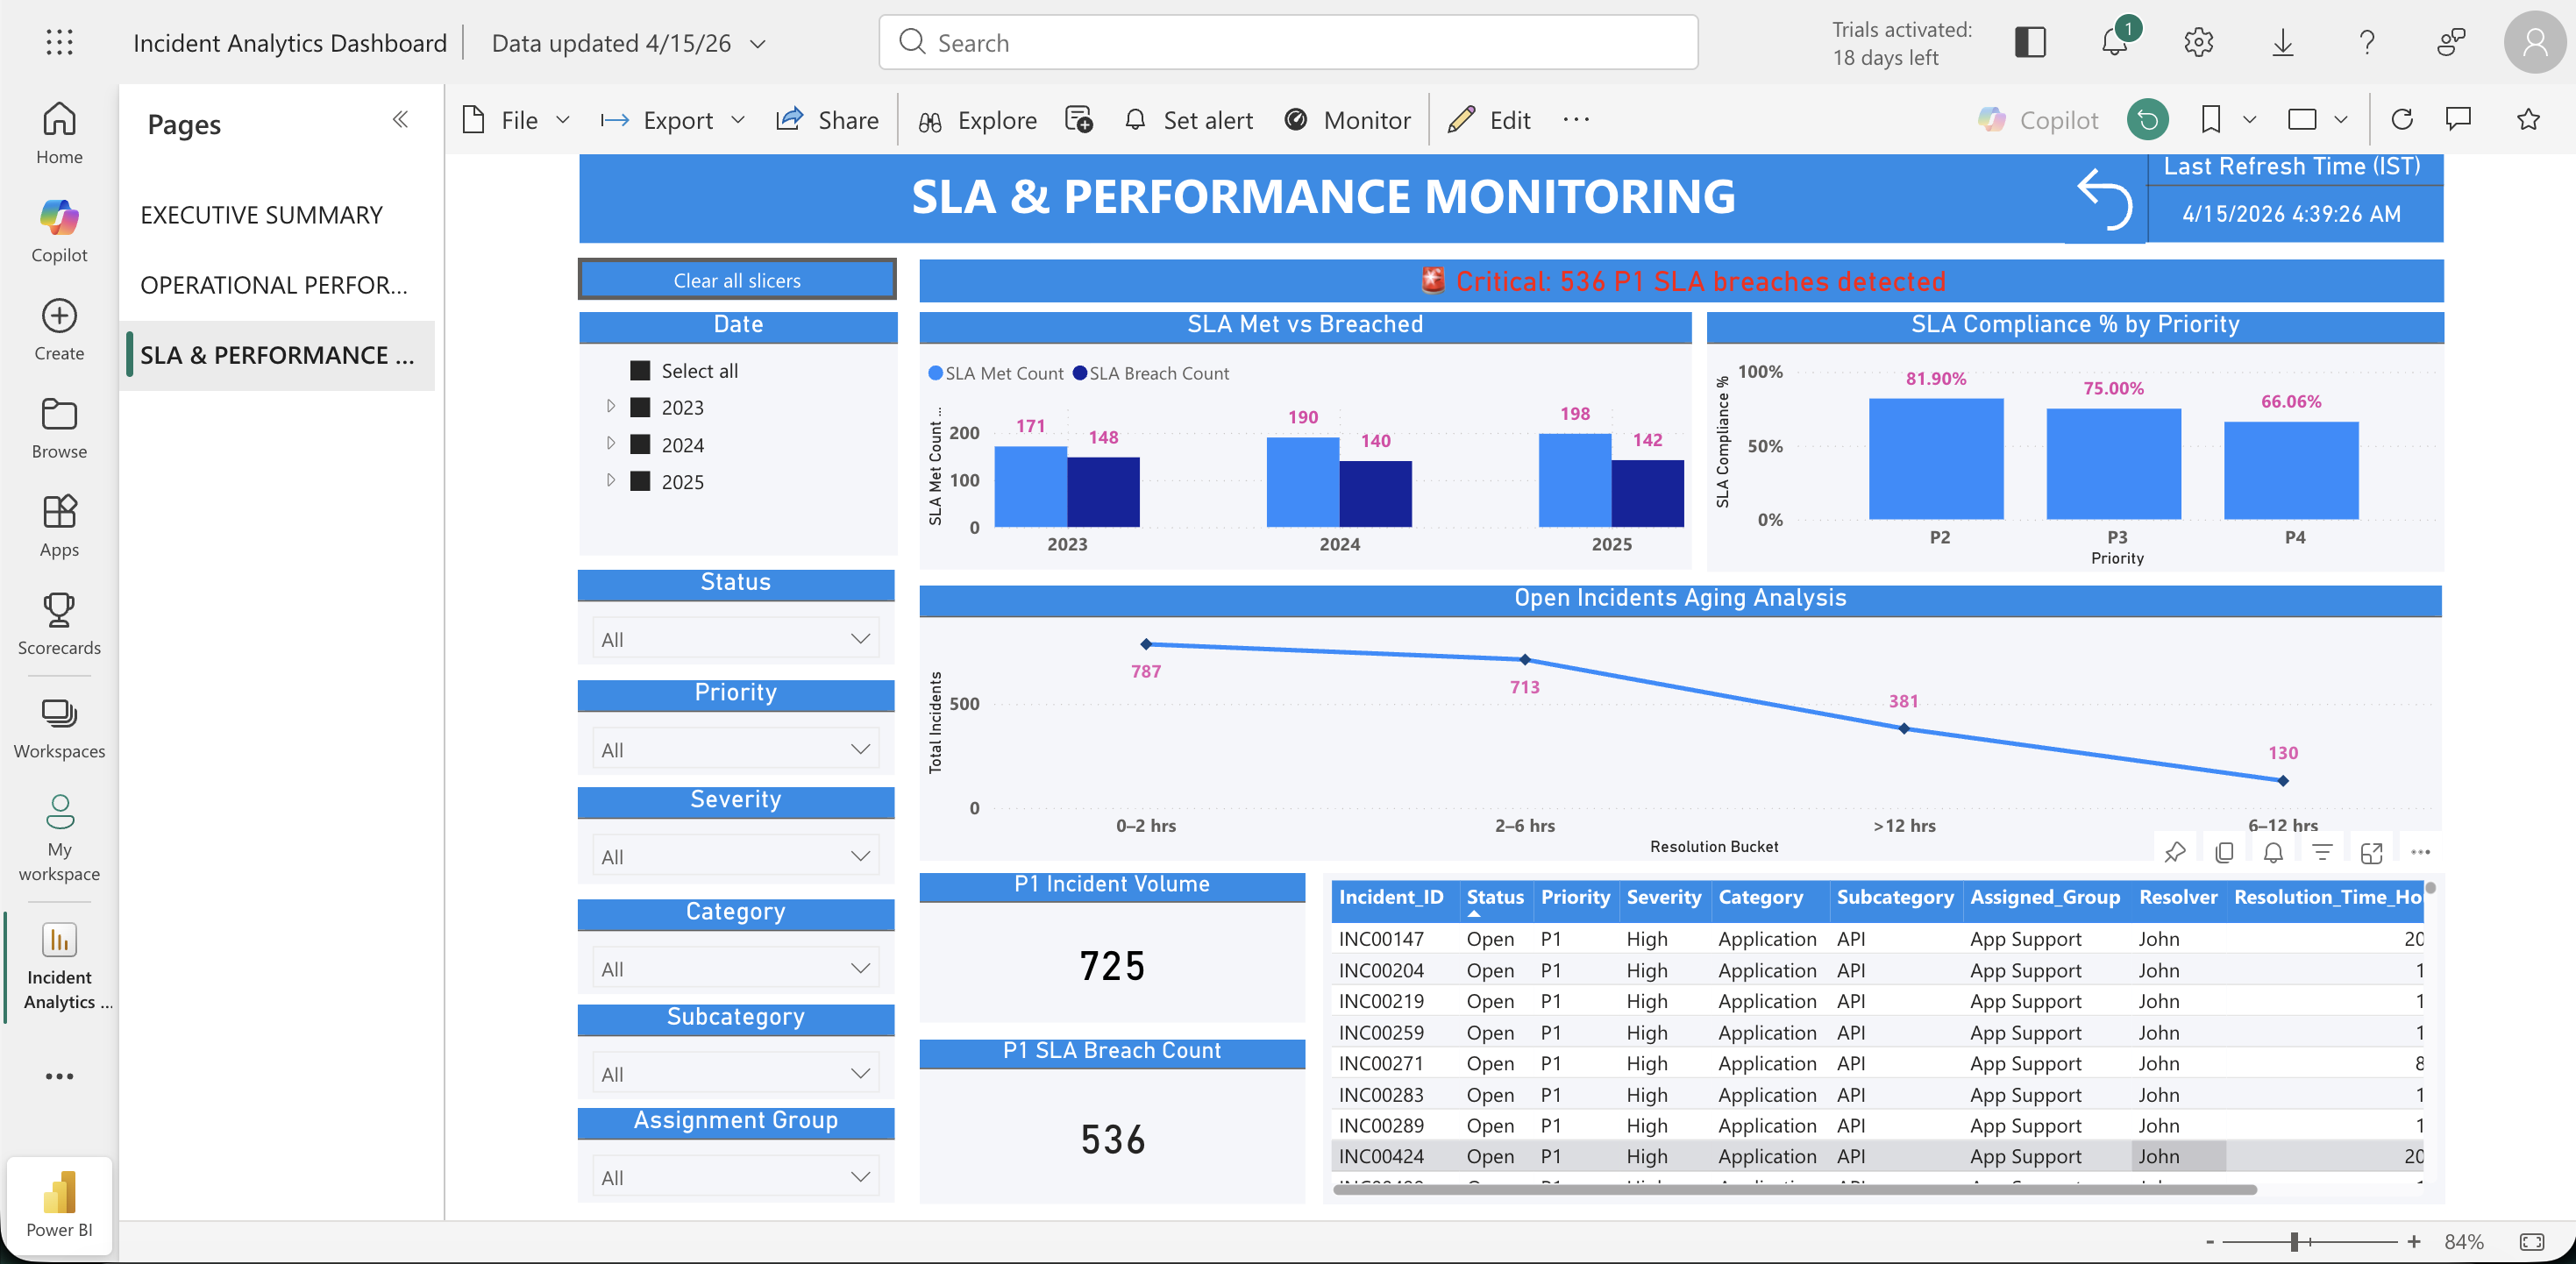

This screenshot's page, from the dashboard's own definition file:
{"tool":"powerbi","page":{"name":"SLA & PERFORMANCE MONITORING","canvas":[1280,720],"ordinal":2},"visuals":[{"type":"textbox","box":[10.2,0,1005.7,60],"z":0,"group":"g1"},{"type":"slicer","title":"Status","fields":{"Values":["Dim_Status.Status"]},"box":[10.2,280.7,213.8,64],"z":0,"group":"g2"},{"type":"lineChart","title":"Open Incidents Aging Analysis","fields":{"Y":["Measure.Total Incidents"],"Category":["Fact_Incident.Resolution Bucket"]},"box":[240.5,290.9,1028.2,185.8],"z":0},{"type":"card","title":"Last Refresh Time (IST)","fields":{"Values":["Min(Last Refresh Time (IST).Last Refresh Time (IST))"]},"box":[1064.5,0,205.1,59.6],"z":1000,"group":"g1"},{"type":"slicer","title":"Priority","fields":{"Values":["Dim_Priority.Priority"]},"box":[10.2,354.9,213.8,64],"z":1000,"group":"g2"},{"type":"card","title":"P1 Incident Volume","fields":{"Values":["Measure.Total P1 Incidents"]},"box":[240.2,485.5,260.4,100.8],"z":1000},{"type":"shape","box":[1058.9,0,20.4,59.6],"z":2000,"group":"g1"},{"type":"clusteredColumnChart","title":"SLA Compliance % by Priority","fields":{"Category":["Dim_Priority.Priority"],"Y":["Measure.SLA Compliance %"]},"box":[771.8,106.6,498.2,175.7],"z":2000},{"type":"slicer","title":"Severity","fields":{"Values":["Dim_Severity.Severity"]},"box":[10.2,427.6,213.8,65.5],"z":2000,"group":"g2"},{"type":"card","title":"Open Incidents Count","fields":{"Values":["Measure.Open Count"]},"box":[178.3,0,177.1,60],"z":3000},{"type":"slicer","title":"Category","fields":{"Values":["Dim_Category.Category"]},"box":[10.2,503.3,213.8,64],"z":3000,"group":"g2"},{"type":"slicer","title":"Subcategory","fields":{"Values":["Dim_Subcategory.Subcategory"]},"box":[10.2,574.5,213.8,64],"z":4000,"group":"g2"},{"type":"card","title":"P1 SLA Breach Count","fields":{"Values":["Measure.P1 SLA Breach Count"]},"box":[240.2,598,260.4,110.9],"z":4000},{"type":"clusteredColumnChart","title":"SLA Met vs Breached","fields":{"Y":["Measure.SLA Met Count","Measure.SLA Breach Count"],"Category":["Dim_Date.Date Hierarchy.Year","Dim_Date.Date Hierarchy.Quater","Dim_Date.Date Hierarchy.Month","Dim_Date.Date Hierarchy.Day"]},"box":[240.5,106.6,521.3,174.2],"z":5000},{"type":"slicer","title":"Assignment Group","fields":{"Values":["Dim_Assigned_Group.Assigned_Group"]},"box":[10.2,644.4,213.8,64],"z":5000,"group":"g2"},{"type":"slicer","title":"Date","fields":{"Values":["Dim_Date.Date Hierarchy.Year","Dim_Date.Date Hierarchy.Quater","Dim_Date.Date Hierarchy.Month","Dim_Date.Date Hierarchy.Day"]},"box":[10.7,106.7,215.1,164.5],"z":6000,"group":"g2"},{"type":"tableEx","title":"SLA Compliance by Assignment Group","fields":{"Values":["Fact_Incident.Incident_ID","Dim_Status.Status","Dim_Priority.Priority","Dim_Severity.Severity","Dim_Category.Category","Dim_Subcategory.Subcategory","Dim_Assigned_Group.Assigned_Group","Dim_Resolver.Resolver","Fact_Incident.Resolution_Time_Hours","Fact_Incident.Sla_Breach_Flag"]},"box":[512.3,485.5,757.6,223.4],"z":6000},{"type":"group","id":"g1","title":"ES Top Bar","box":[10.2,0,1259.4,60],"z":7000},{"type":"actionButton","box":[10,70,215.7,28.6],"z":7000,"group":"g2"},{"type":"group","id":"g2","title":"Slicer Group","box":[10,70,215.8,638.4],"z":8000},{"type":"actionButton","box":[1013.8,0,54.7,60.5],"z":9000},{"type":"card","fields":{"Values":["Measure.Critical Alert"]},"box":[240.5,70.6,1029.6,28.8],"z":10000}]}

Visuals, with their boxes on the page's 1280x720 design canvas (x1, y1, x2, y2). These are canvas units, not pixel positions in the 2576x1264 screenshot, which may show the page scaled, cropped or inside an application window:
textbox: {"x1": 10, "y1": 0, "x2": 1016, "y2": 60}
"Status" slicer: {"x1": 10, "y1": 281, "x2": 224, "y2": 345}
"Open Incidents Aging Analysis" lineChart: {"x1": 240, "y1": 291, "x2": 1269, "y2": 477}
"Last Refresh Time (IST)" card: {"x1": 1064, "y1": 0, "x2": 1270, "y2": 60}
"Priority" slicer: {"x1": 10, "y1": 355, "x2": 224, "y2": 419}
"P1 Incident Volume" card: {"x1": 240, "y1": 486, "x2": 501, "y2": 586}
shape: {"x1": 1059, "y1": 0, "x2": 1079, "y2": 60}
"SLA Compliance % by Priority" clusteredColumnChart: {"x1": 772, "y1": 107, "x2": 1270, "y2": 282}
"Severity" slicer: {"x1": 10, "y1": 428, "x2": 224, "y2": 493}
"Open Incidents Count" card: {"x1": 178, "y1": 0, "x2": 355, "y2": 60}
"Category" slicer: {"x1": 10, "y1": 503, "x2": 224, "y2": 567}
"Subcategory" slicer: {"x1": 10, "y1": 574, "x2": 224, "y2": 638}
"P1 SLA Breach Count" card: {"x1": 240, "y1": 598, "x2": 501, "y2": 709}
"SLA Met vs Breached" clusteredColumnChart: {"x1": 240, "y1": 107, "x2": 762, "y2": 281}
"Assignment Group" slicer: {"x1": 10, "y1": 644, "x2": 224, "y2": 708}
"Date" slicer: {"x1": 11, "y1": 107, "x2": 226, "y2": 271}
"SLA Compliance by Assignment Group" tableEx: {"x1": 512, "y1": 486, "x2": 1270, "y2": 709}
"ES Top Bar" group: {"x1": 10, "y1": 0, "x2": 1270, "y2": 60}
actionButton: {"x1": 10, "y1": 70, "x2": 226, "y2": 99}
"Slicer Group" group: {"x1": 10, "y1": 70, "x2": 226, "y2": 708}
actionButton: {"x1": 1014, "y1": 0, "x2": 1068, "y2": 60}
card - Measure.Critical Alert: {"x1": 240, "y1": 71, "x2": 1270, "y2": 99}
